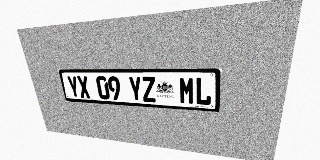0: (95, 76, 110, 100)
9: (107, 76, 122, 100)
L: (195, 77, 212, 106)
M: (179, 77, 195, 105)
X: (76, 76, 91, 99)
Y: (128, 76, 143, 102), (66, 76, 81, 98)
Z: (141, 76, 157, 102)
